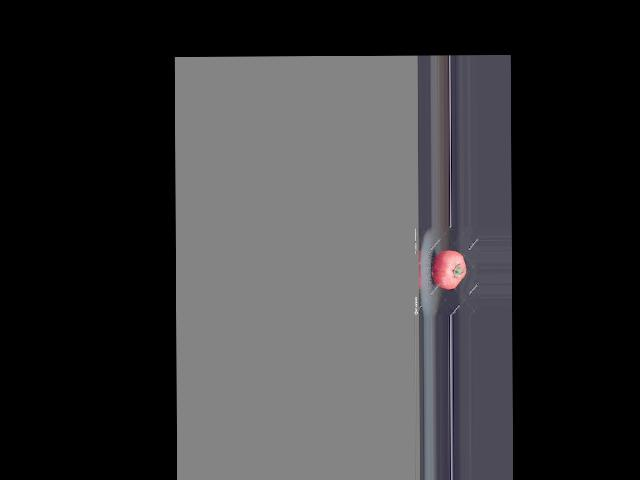tomato: (432, 249, 466, 289)
